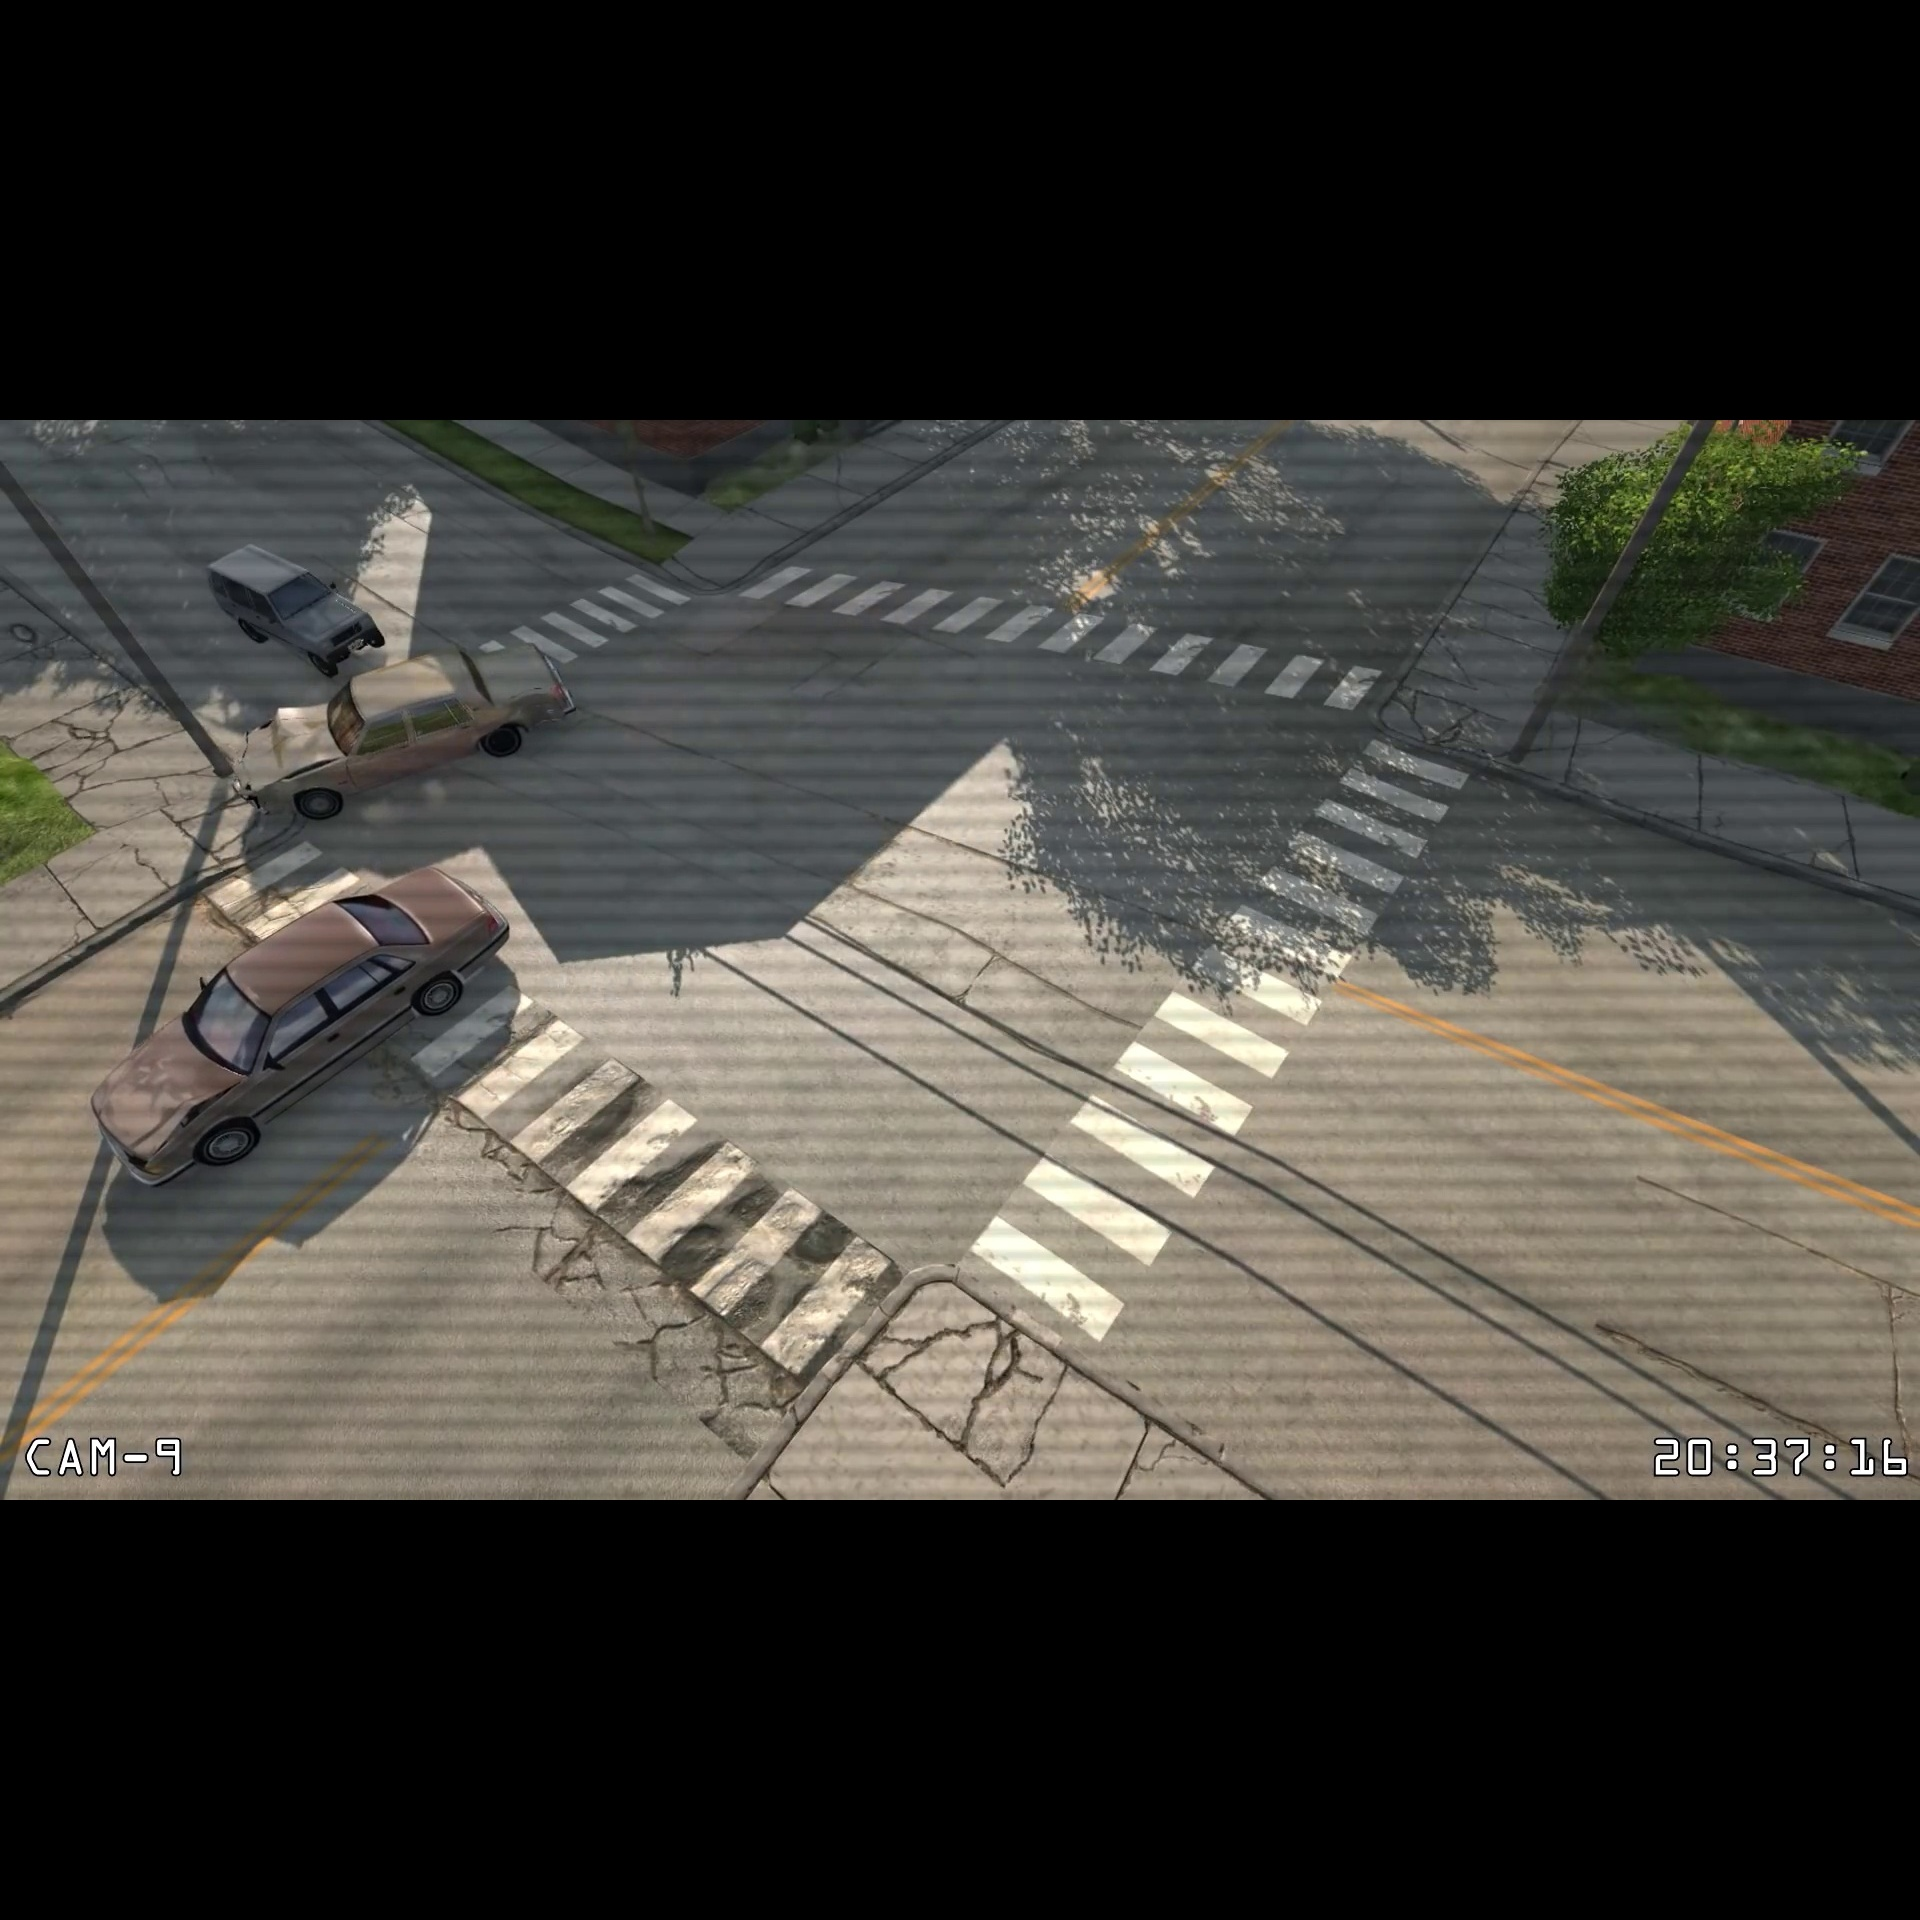vehicle: (84, 856, 522, 1197), (234, 635, 587, 826), (195, 536, 389, 682)
